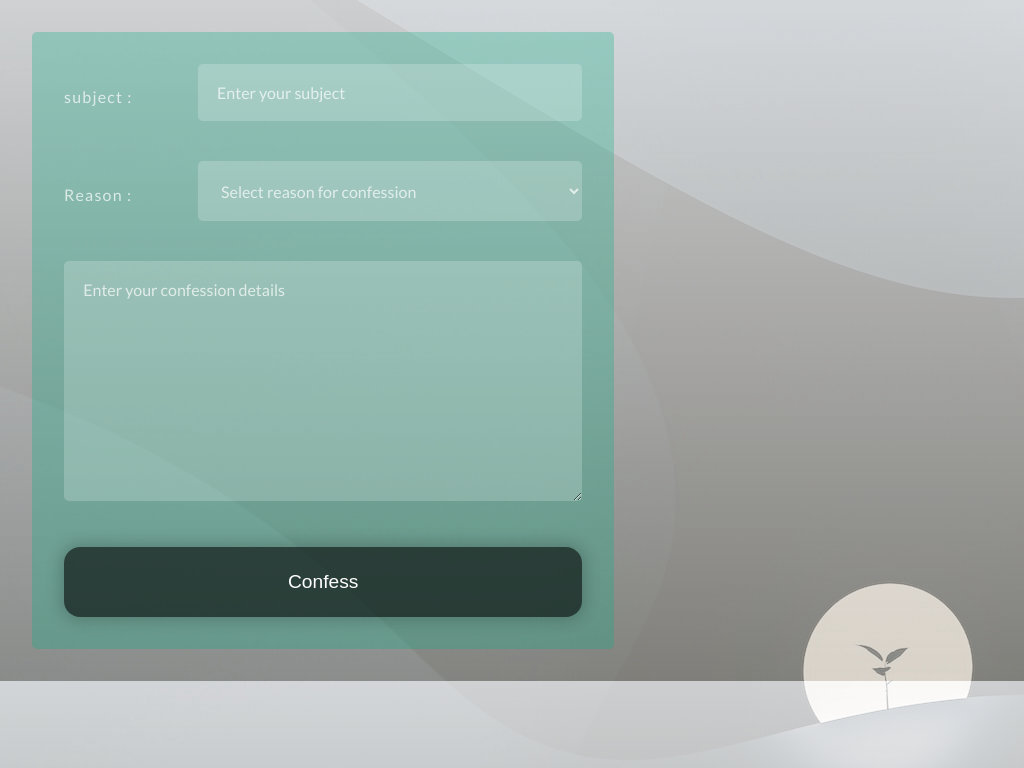
shows send message after receiving response fron server
# user types in input field
Type "confession" into the field at x=390, y=93, box [198, 64, 582, 121]
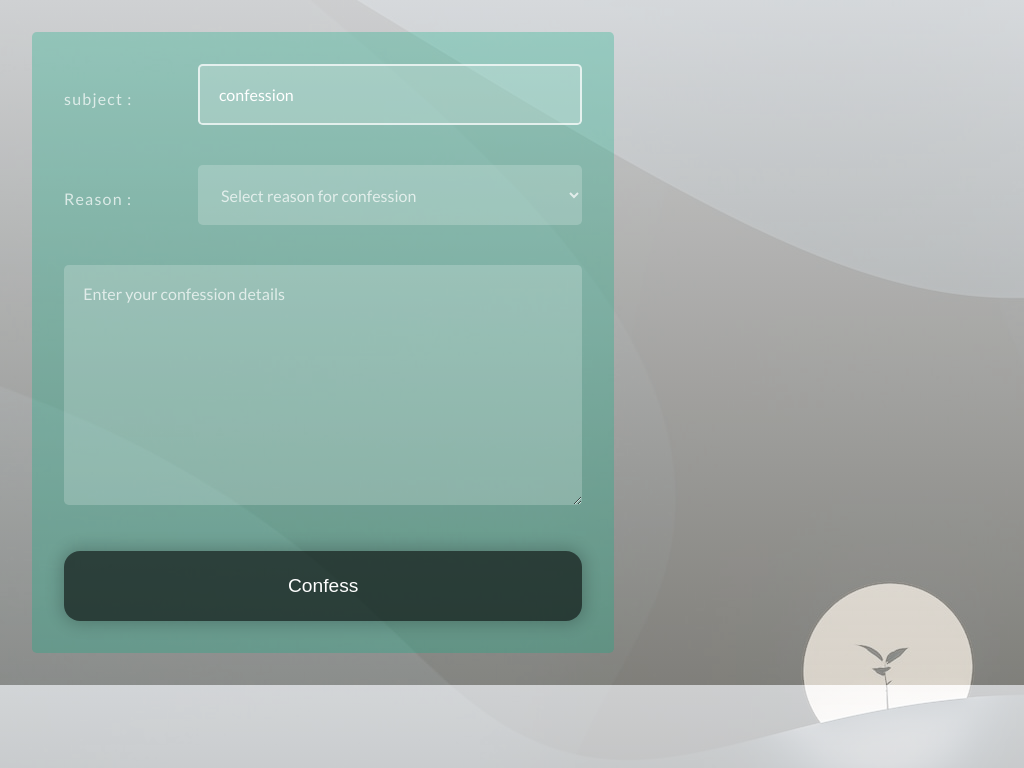
# user selects from select field
Select "rudeness" in the dropdown at x=390, y=195, box [198, 165, 582, 225]
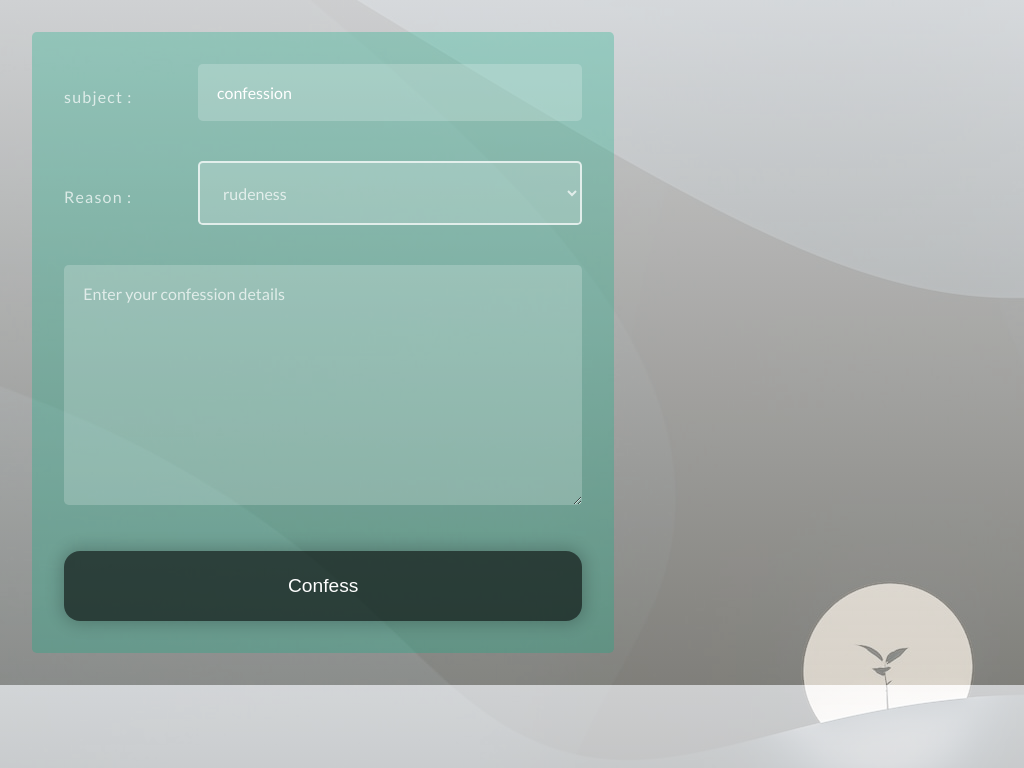
# user types in textarea
Type "I behaved rudely to a citzen in Fakelandia. I will make sure I don't do it next time." into the text box at x=323, y=385, box [64, 265, 582, 505]
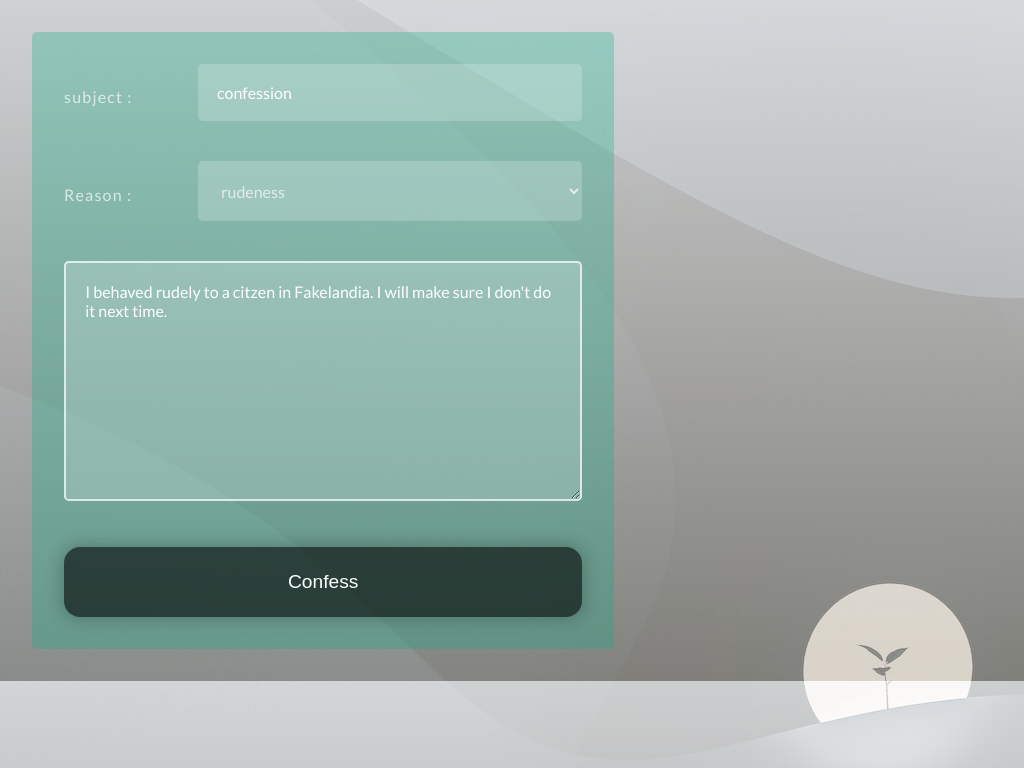
# user clicks button
Click the button at x=323, y=582, box [64, 547, 582, 617]
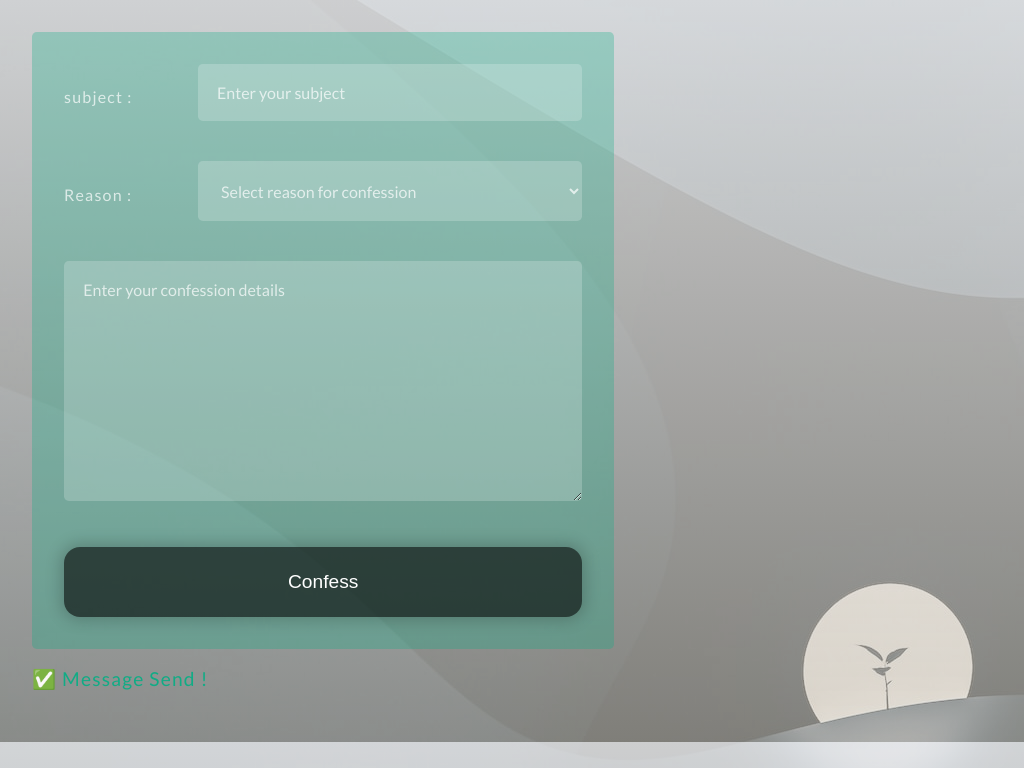
Check: the message reads "✅ Message Send !", box [32, 667, 208, 690]
